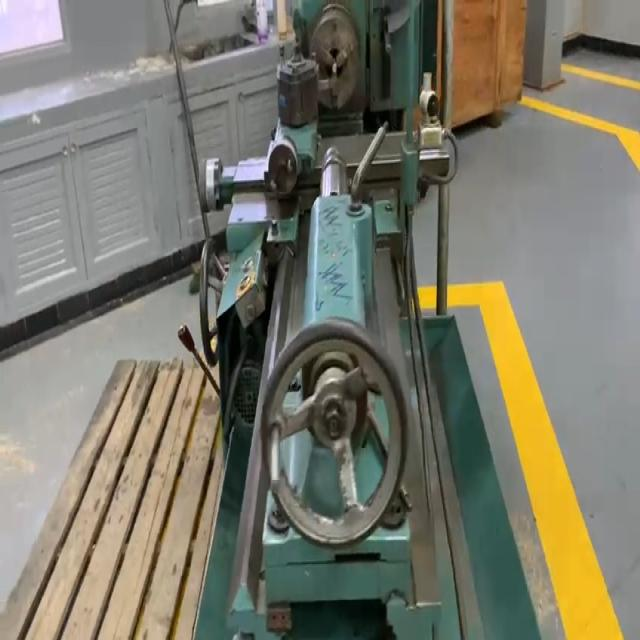tour parallele: (199, 0, 539, 637)
